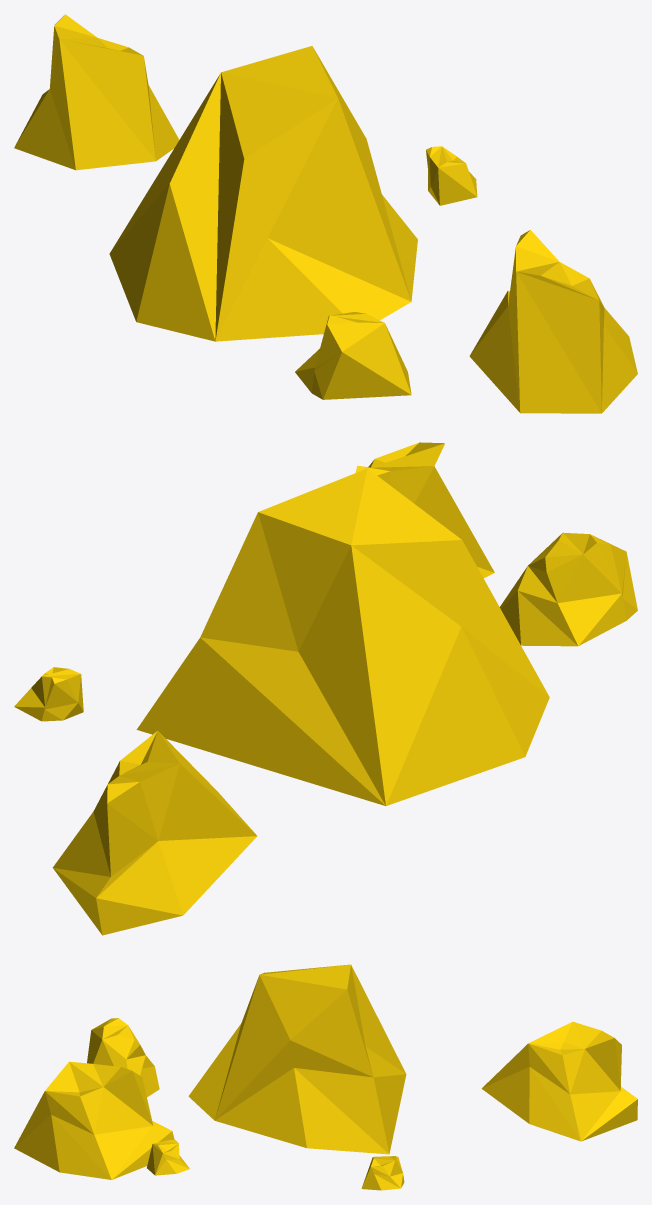
The model's file is gold 2.fbx.
3 views of the same model, one above another, from view 1: azimuth 30°, elevation 25°; view 2: azimuth 150°, elevation 25°; view 3: azimuth 270°, elevation 25° (orthographic). The views are drawn at different scales.
Visible parts, largest first — view 1: group1988159041, group1230782801, group1383753236, group697255115; view 2: group1988159041, group1383753236, group1230782801, group697255115; view 3: group1988159041, group1230782801, group1383753236, group697255115.
Boxes of the visible parts, x1,y1,x2,y2 form: group1988159041: (109, 46, 417, 341); group1230782801: (295, 230, 637, 413); group1383753236: (14, 14, 179, 170); group697255115: (426, 146, 477, 205); group1988159041: (136, 468, 549, 805); group1383753236: (52, 730, 257, 935); group1230782801: (355, 442, 637, 646); group697255115: (14, 667, 83, 721); group1988159041: (188, 964, 406, 1154); group1230782801: (14, 1018, 189, 1179); group1383753236: (481, 1021, 637, 1141); group697255115: (361, 1156, 404, 1190).
Size of the model in its own units: 51.12 by 27.32 by 99.61.
